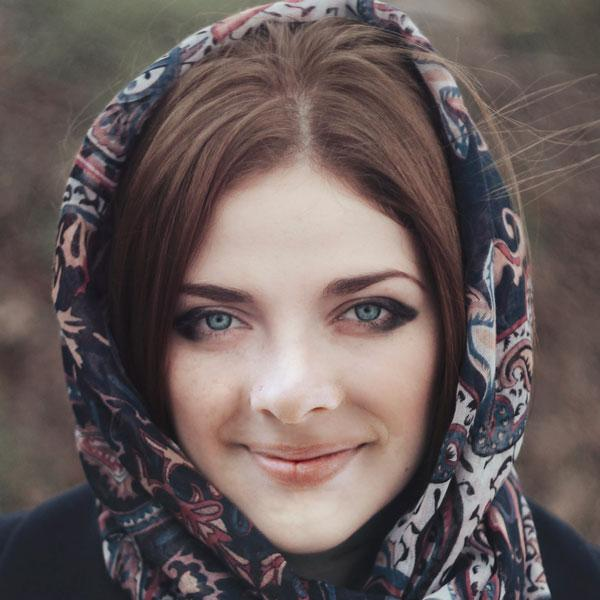Eyes: (323, 291, 417, 339), (172, 299, 259, 344)
